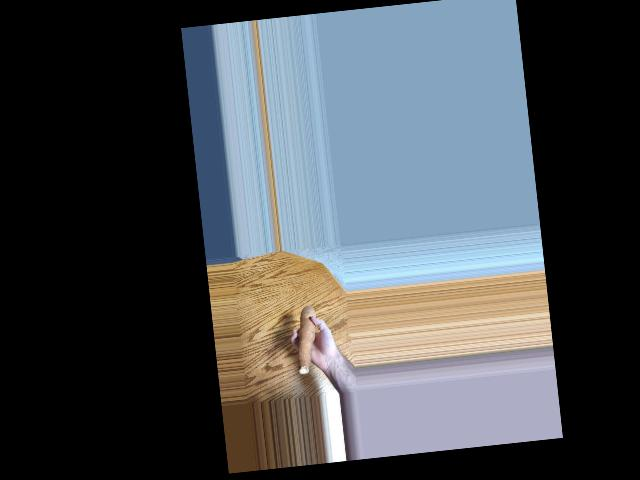sweet_potato: (290, 302, 319, 380)
